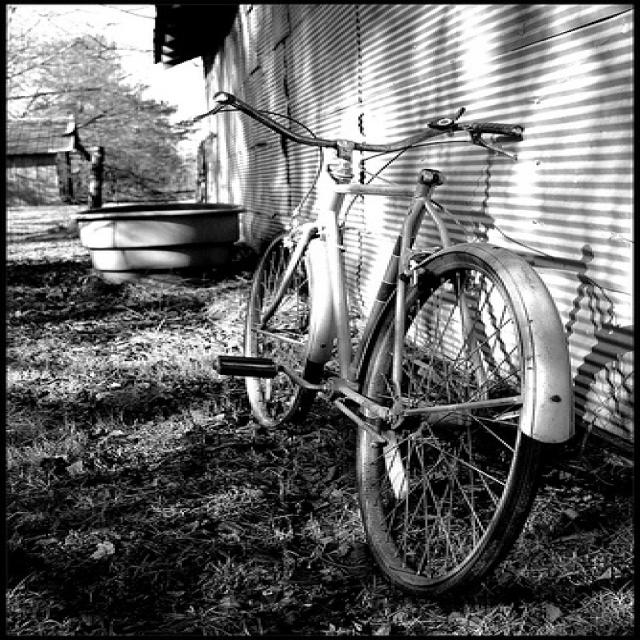bicycle: (175, 91, 582, 604)
